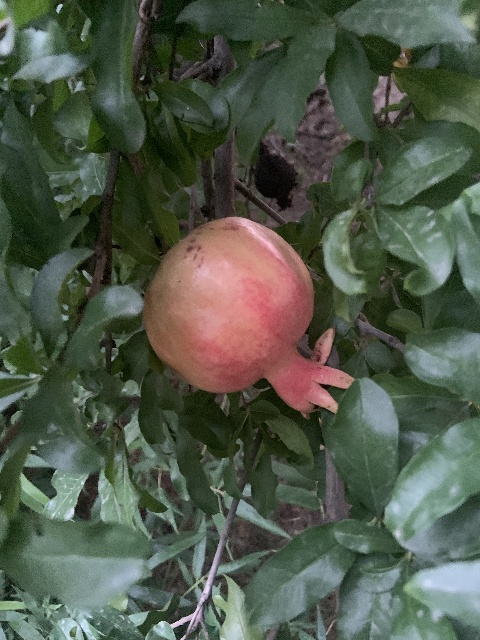ripe: (143, 217, 353, 420)
